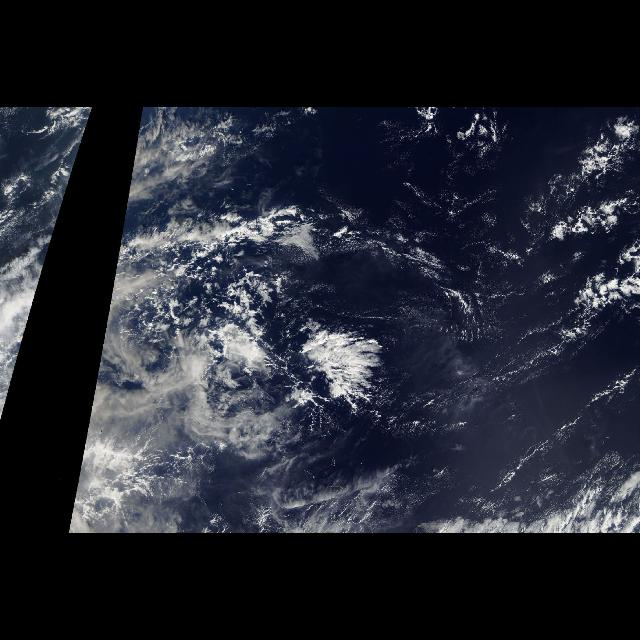Flower: (178, 218, 414, 430)
Sugar: (370, 171, 550, 409)
